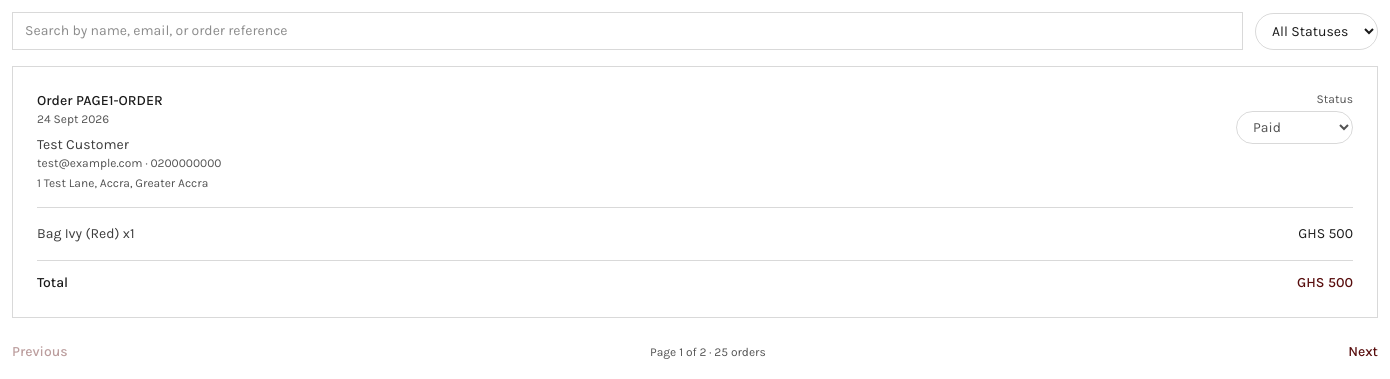
Test: AdminOrdersPage pagination › resets to page 1 and refetches when the status filter changes
Expected: the text "Order PAGE1-ORDER" is shown, x1=37 y1=92 x2=163 y2=109
Step 1. Click the button "Next" → (1363, 352), box x1=1348 y1=342 x2=1378 y2=362
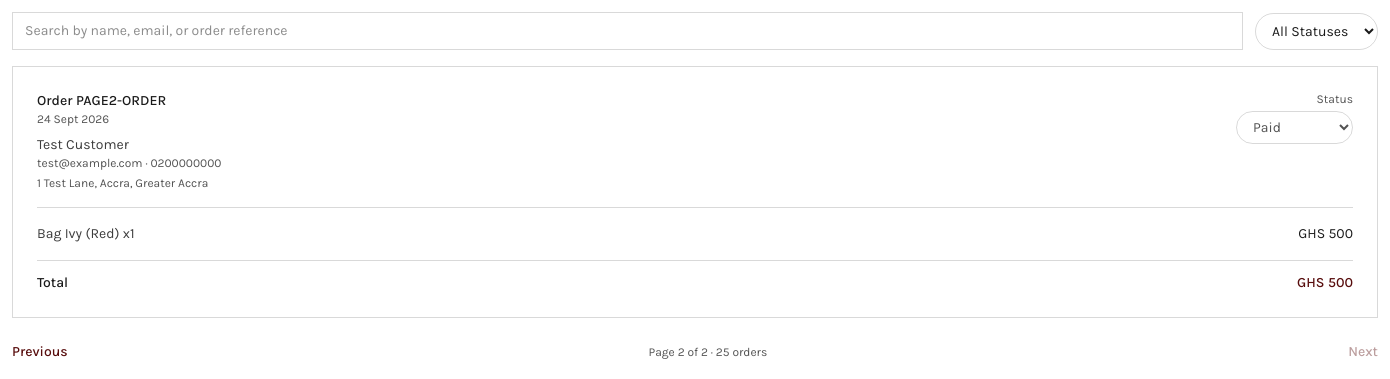
Result: the text "Order PAGE2-ORDER" is shown at x1=37 y1=92 x2=166 y2=109
Step 2. Select "paid" in the dropdown showing "All statuses" → (1316, 31), box x1=1255 y1=12 x2=1378 y2=50
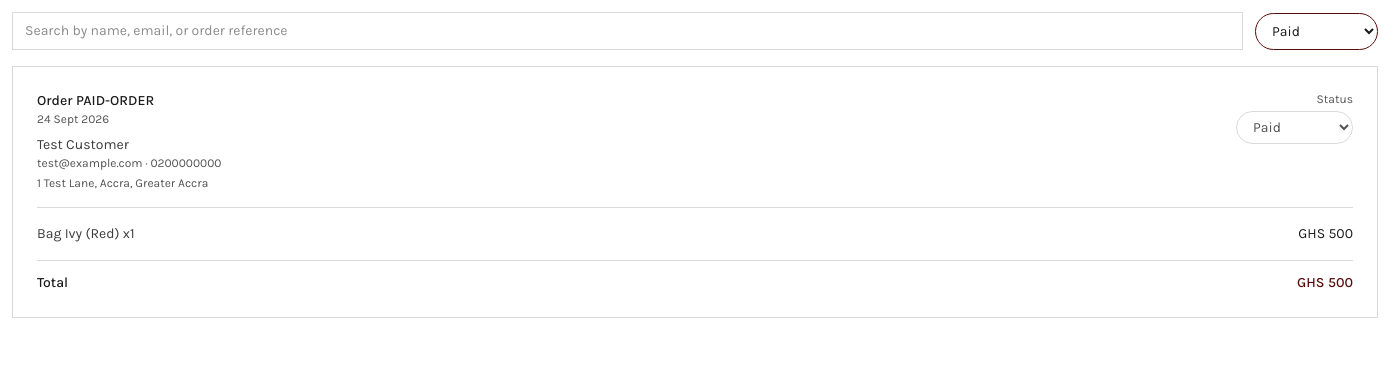
Result: the text "Order PAID-ORDER" is shown at x1=37 y1=92 x2=154 y2=109
